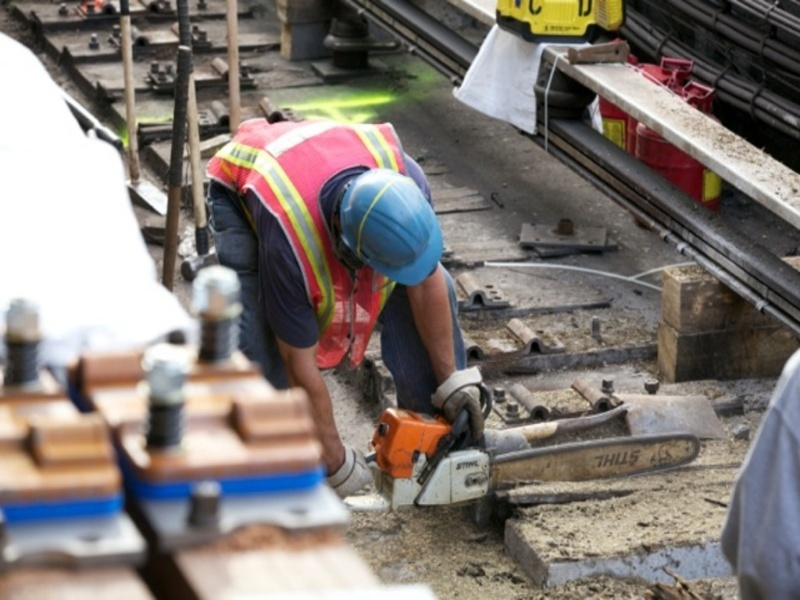Baret: (337, 167, 446, 287)
